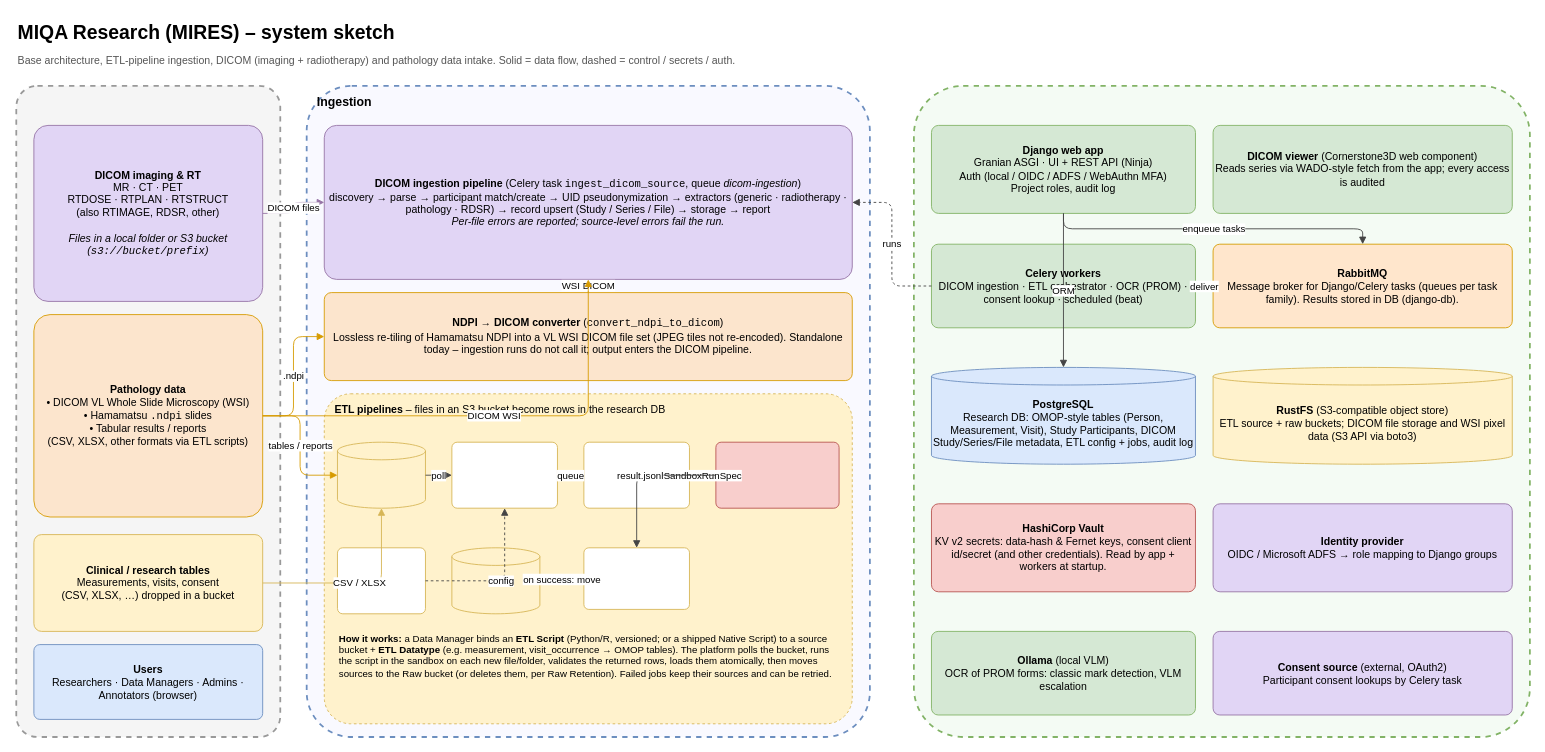
The diagram is 1545 pixels wide and 752 high, and some of its shapes have lost their labels. Here are the shapes that lost their labels. From the top down, the box of each, then its label:
(15, 84, 281, 737): External data sources
(913, 84, 1530, 737): MIQA Research platform
(337, 441, 425, 508): Source bucket (Source Location)
(451, 441, 557, 508): Orchestrator Celery poll + diff
(583, 441, 689, 508): ETL Job script version, inputs, status
(715, 441, 839, 508): Sandbox Runner no network, no credentials, read-only input
(337, 547, 425, 614): Pipeline Binding Datatype + script + source + retention
(451, 547, 540, 614): Raw bucket (move or delete)
(583, 547, 689, 609): Datatype loader validate rows, one atomic transaction
